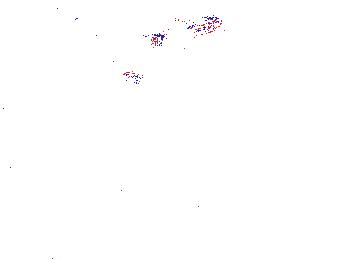X-ray fish: (148, 63, 165, 110), (322, 174, 346, 204)
red belly glassfish: (142, 119, 178, 139), (121, 70, 154, 84)
redtail glassfish: (150, 14, 223, 54)
